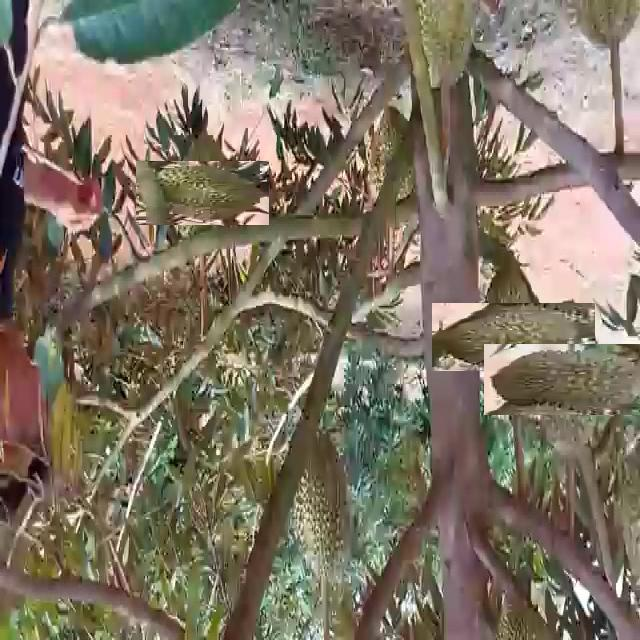durian: (510, 319, 632, 441), (456, 280, 572, 395), (283, 428, 358, 593), (154, 143, 252, 242), (410, 2, 485, 100), (366, 104, 423, 216), (568, 2, 639, 56)
